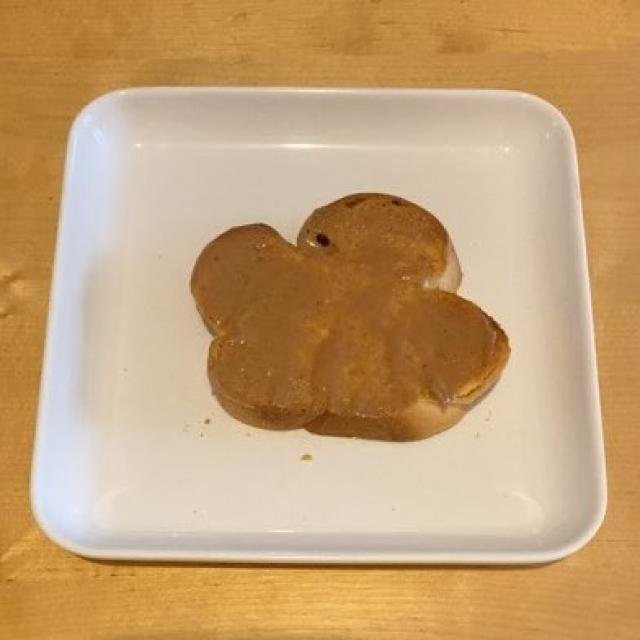bread: (193, 194, 499, 435)
butter: (211, 196, 502, 435)
